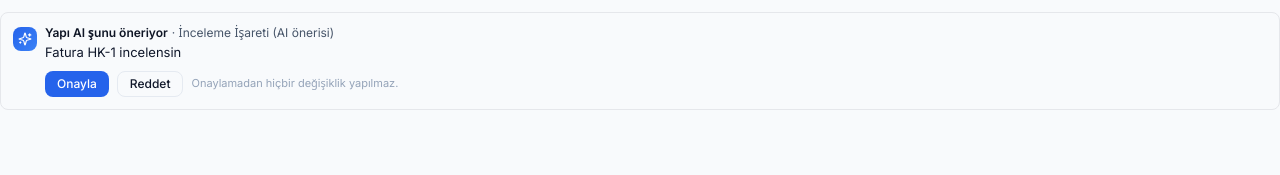
Test: ProposedActionCard reject (CR-011-E) › director rejects with a reason -> posts to the approvals reject endpoint
# Open the reason form.
Click the button "Reddet".
click(150, 84)  # box [117, 70, 183, 96]
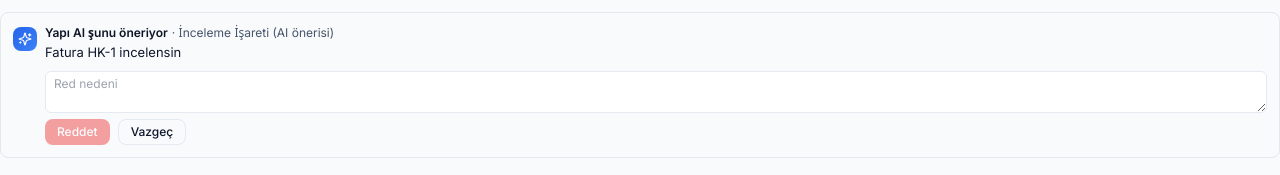
Type "Hatalı tutar" into the text box with placeholder "Red nedeni".
click(656, 92); type("Hatalı tutar")  # box [45, 70, 1267, 112]
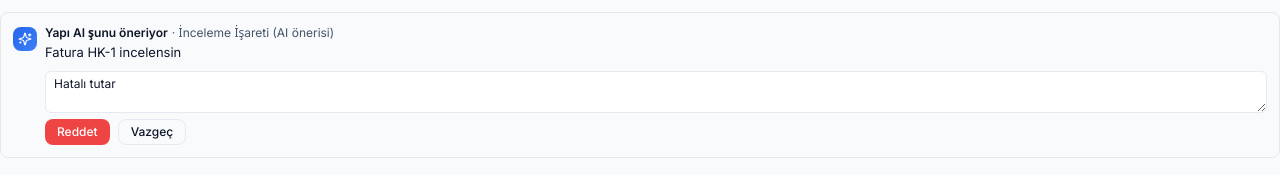
# Submit (the form's Reddet button).
Click the button "Reddet".
click(77, 132)  # box [45, 118, 110, 144]
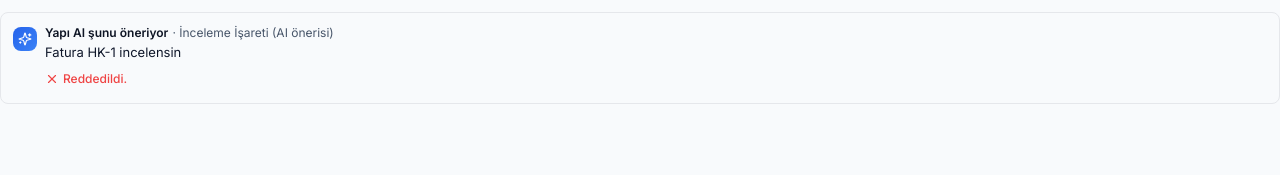
Expected: the text "Reddedildi." is shown, [45, 70, 127, 86]
